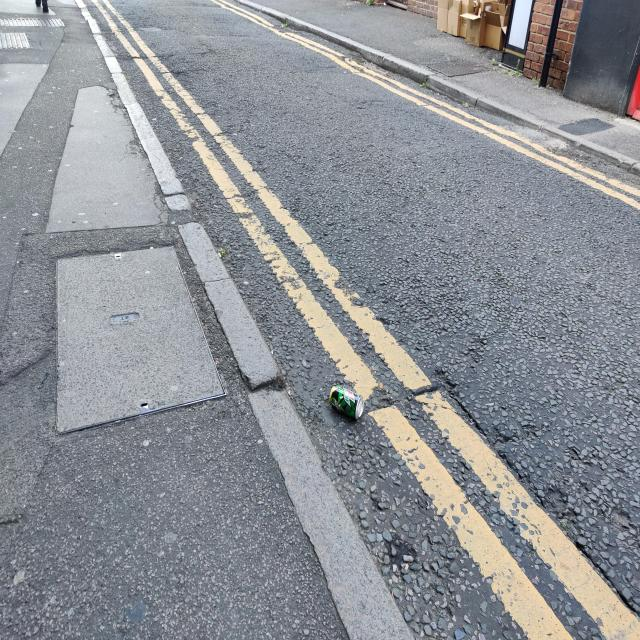litter: (329, 385, 364, 420)
